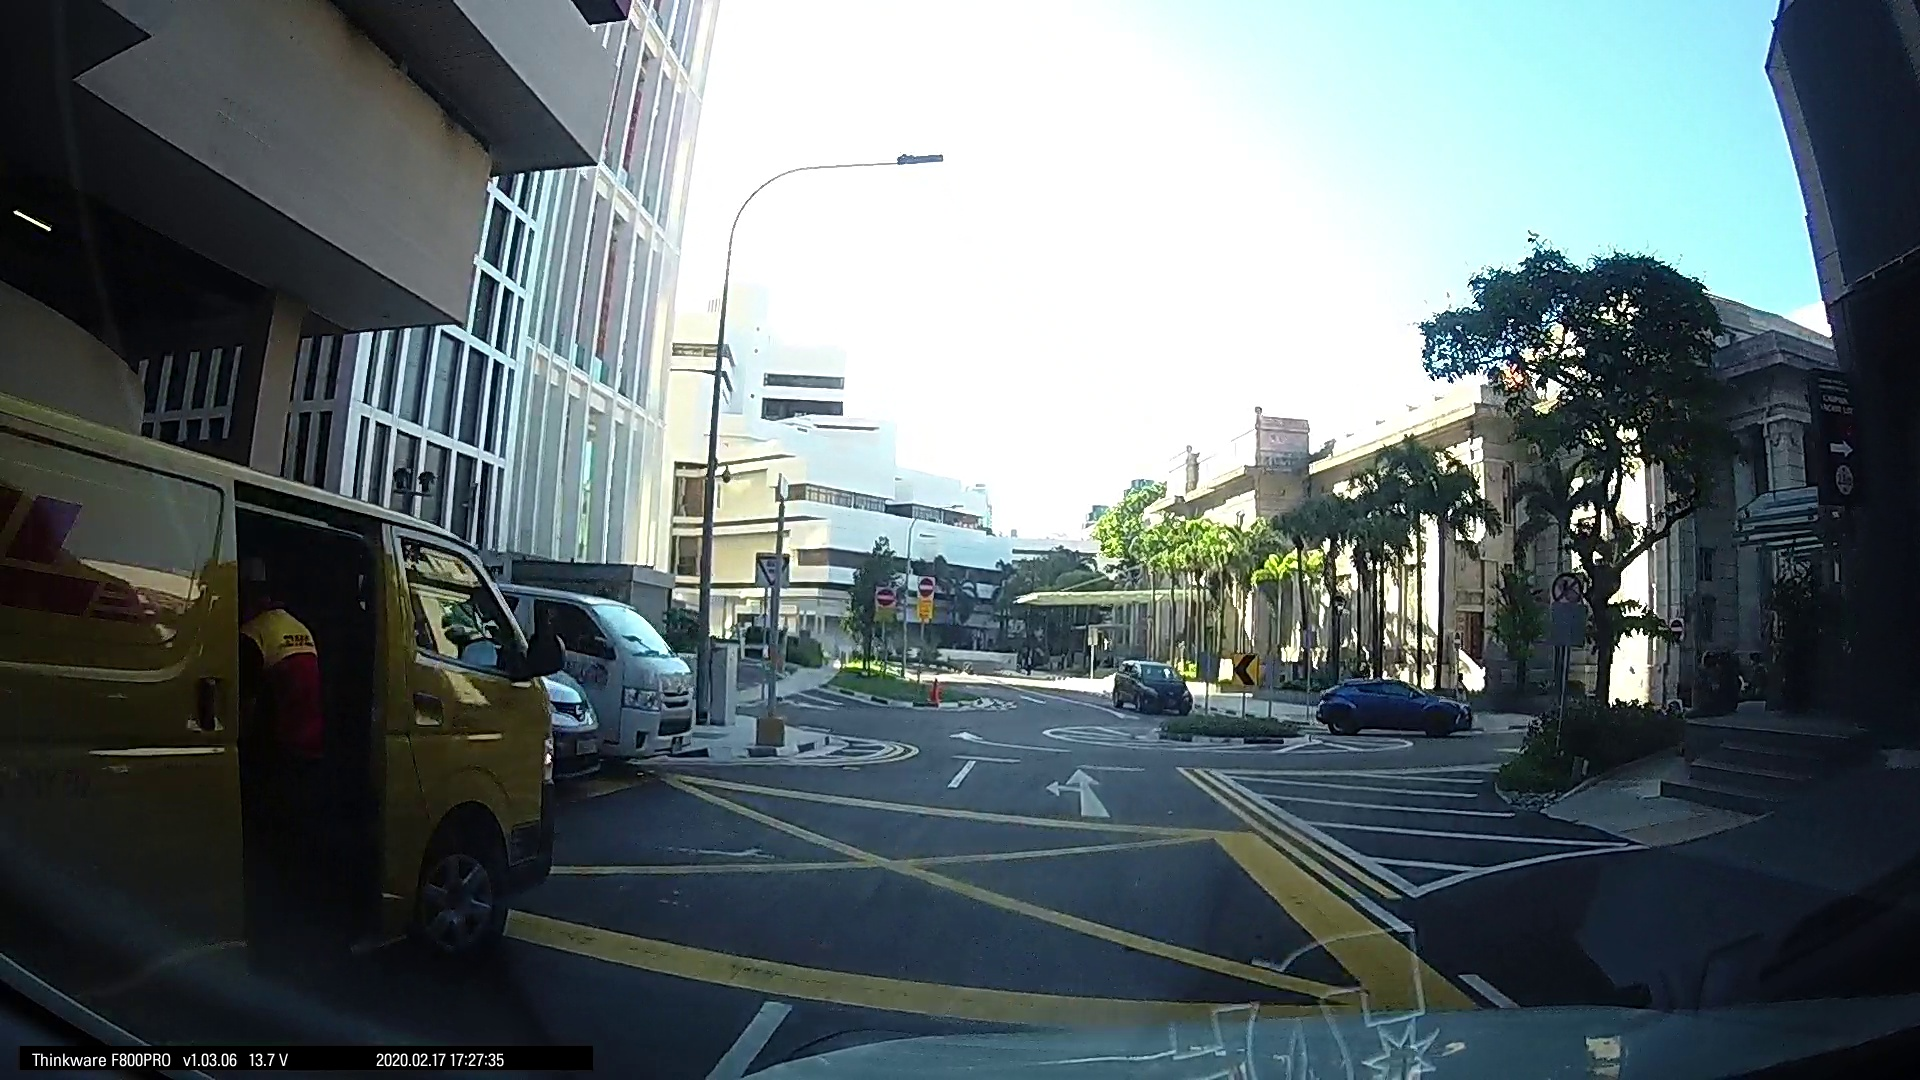Light Vehicle: (615, 653, 849, 810), (1549, 702, 1780, 831), (767, 647, 901, 764), (898, 651, 964, 720), (953, 638, 1009, 695), (1167, 665, 1221, 700)
Motorcycle: (109, 655, 468, 939), (422, 669, 636, 882)
